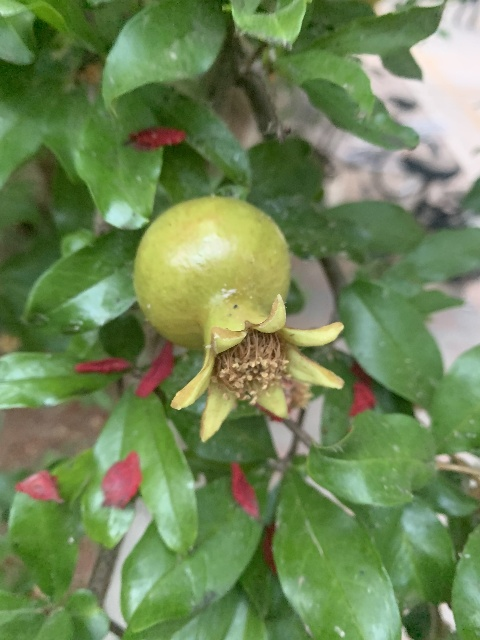mid-growth: (133, 197, 346, 447)
